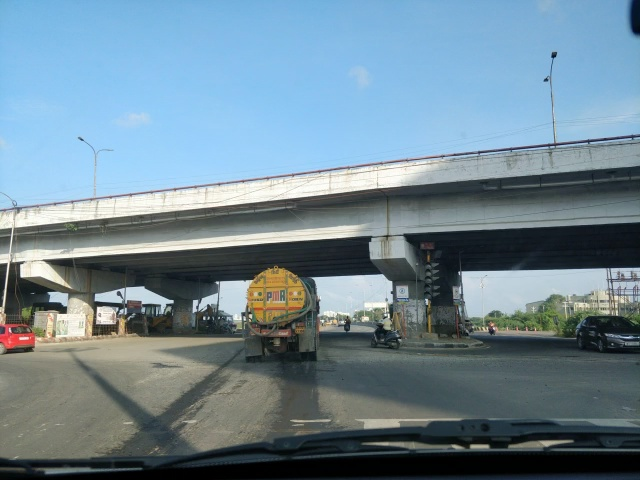car: (571, 307, 637, 361), (1, 317, 44, 362)
motorbike: (370, 315, 410, 358), (339, 313, 357, 336), (484, 319, 498, 340)
truck: (238, 268, 334, 375)
